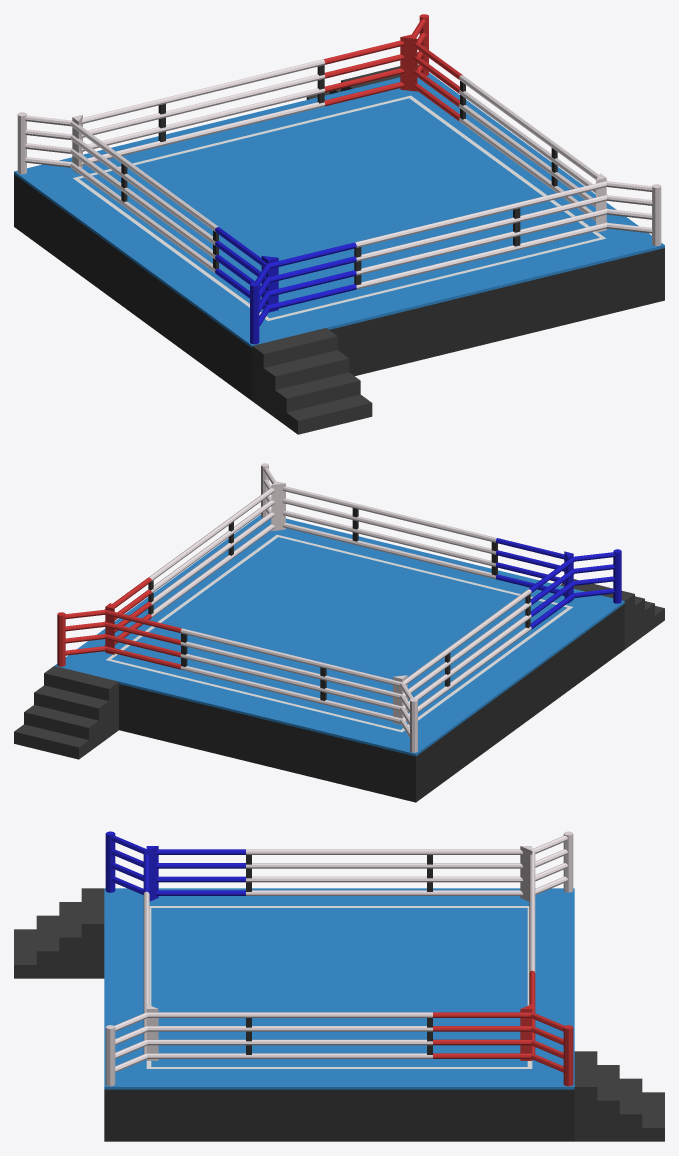
The model's file is Boxing Arena.fbx.
3 views of the same model, one above another, from view 1: azimuth 30°, elevation 25°; view 2: azimuth 150°, elevation 25°; view 3: azimuth 270°, elevation 25° (orthographic). The views are drawn at different scales.
Parts seen in each view (by area): view 1: Boxing Arena, Stairs Blue Corner; view 2: Boxing Arena, Stairs Red Corner, Stairs Blue Corner; view 3: Boxing Arena, Stairs Red Corner, Stairs Blue Corner.
Boxes of the visible parts, x1=… form: Boxing Arena: x1=14, y1=14, x2=664, y2=400; Stairs Blue Corner: x1=252, y1=328, x2=372, y2=434; Boxing Arena: x1=54, y1=463, x2=624, y2=802; Stairs Red Corner: x1=14, y1=666, x2=118, y2=759; Stairs Blue Corner: x1=560, y1=579, x2=664, y2=649; Boxing Arena: x1=104, y1=831, x2=574, y2=1141; Stairs Red Corner: x1=574, y1=1051, x2=664, y2=1141; Stairs Blue Corner: x1=14, y1=888, x2=104, y2=978.
Size of the model in its own units: 3120 by 840 by 4320.
